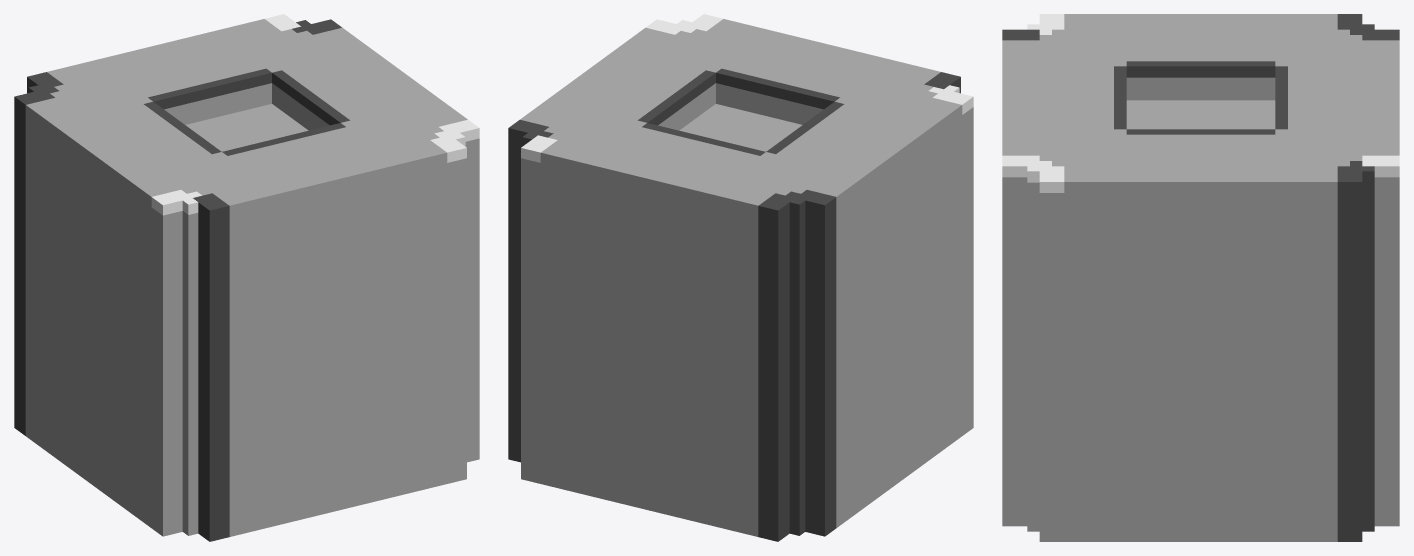
The model's file is 4Joint.obj.
3 renders of one model, left to right at view 1: azimuth 30°, elevation 25°; view 2: azimuth 150°, elevation 25°; view 3: azimuth 270°, elevation 25°, orthographic. The views are drawn at different scales.
Size of the model in its own units: 32 by 32 by 32.
Materials: 1 (1 with a texture image).
